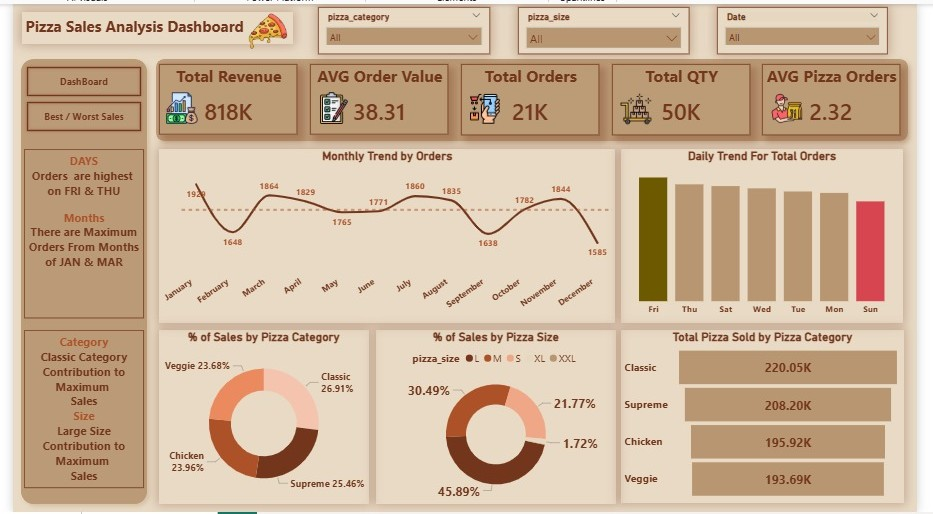

This screenshot's page, from the dashboard's own definition file:
{"tool":"powerbi","page":{"name":"DashBoard","canvas":[1280,720],"ordinal":0},"visuals":[{"type":"shape","box":[0,66.6,201.3,653.4],"z":0},{"type":"textbox","box":[15.6,462,170.1,223.9],"z":1000},{"type":"textbox","box":[15.6,205.5,170.1,239.5],"z":2000},{"type":"shape","box":[191.3,66.6,1088.5,138.9],"z":3000},{"type":"cardVisual","title":"AVG Order Value","fields":{"Data":["pizza_sales V2.AVG Per Orders"]},"box":[421.3,85.2,196.2,100],"z":4000},{"type":"cardVisual","title":"Total Revenue","fields":{"Data":["pizza_sales V2.Total Revenue"]},"box":[207.5,85.2,196.2,100],"z":5000},{"type":"cardVisual","title":"Total Orders","fields":{"Data":["pizza_sales V2.Total Orders"]},"box":[635.2,84.9,195.6,100.6],"z":6000},{"type":"cardVisual","title":"Total QTY","fields":{"Data":["pizza_sales V2.Total QTY"]},"box":[848.4,84.9,195.6,100.6],"z":7000},{"type":"cardVisual","title":"AVG Pizza Orders","fields":{"Data":["pizza_sales V2.AVG Pizza Orders"]},"box":[1061.6,84.9,195.6,100.6],"z":8000},{"type":"image","box":[1074.3,119.7,45.4,58.1],"z":9000},{"type":"image","box":[645.9,119.7,45,58],"z":10000},{"type":"image","box":[860.1,119.7,45,58],"z":11000},{"type":"image","box":[217.5,119.7,45,57.5],"z":12000},{"type":"image","box":[431.7,119.7,45,57.5],"z":13000},{"type":"lineChart","title":"Monthly Trend by Orders","fields":{"Y":["pizza_sales V2.Total Orders"],"Category":["pizza_sales V2.New Order Date.Variation.Date Hierarchy.Year","pizza_sales V2.New Order Date.Variation.Date Hierarchy.Quarter","pizza_sales V2.New Order Date.Variation.Date Hierarchy.Month","pizza_sales V2.New Order Date.Variation.Date Hierarchy.Day"]},"box":[207.1,205.7,647.1,245.7],"z":14000},{"type":"columnChart","title":"Daily Trend For Total Orders ","fields":{"Y":["pizza_sales V2.Total Orders"],"Category":["pizza_sales V2.Day Name"]},"box":[861.4,205.7,400,245.7],"z":15000},{"type":"donutChart","title":"% of Sales by Pizza Category","fields":{"Category":["pizza_sales V2.pizza_category"],"Y":["pizza_sales V2.Total Revenue"]},"box":[207.1,461.4,297.1,245.7],"z":16000},{"type":"donutChart","title":"% of Sales by Pizza Size","fields":{"Y":["pizza_sales V2.Total Revenue"],"Category":["pizza_sales V2.pizza_size"]},"box":[514.3,461.4,340,245.7],"z":17000},{"type":"funnel","title":"Total Pizza Sold by Pizza Category","fields":{"Category":["pizza_sales V2.pizza_category"],"Y":["pizza_sales V2.Total Revenue"]},"box":[861.7,462,401.1,245.2],"z":18000},{"type":"textbox","box":[12.8,11.3,384.1,45.4],"z":19000},{"type":"image","box":[286.3,9.9,150.2,56.7],"z":20000},{"type":"slicer","fields":{"Values":["pizza_sales V2.pizza_category"]},"box":[432.3,4.3,243.8,66.6],"z":21000},{"type":"slicer","fields":{"Values":["pizza_sales V2.pizza_size"]},"box":[715.4,4.3,243,66.6],"z":22000},{"type":"slicer","fields":{"Values":["pizza_sales V2.New Order Date.Variation.Date Hierarchy.Month"]},"box":[997.8,4.3,242.4,66.6],"z":23000},{"type":"actionButton","box":[15.6,134.6,170.1,49.6],"z":23001},{"type":"actionButton","box":[15.6,85,170.1,49.6],"z":23002}]}

Visuals, with their boxes in screenshot pixels (x1, y1, x2, y2), scaled from the page's 1280x720 canvas onto the 933x514 screenshot:
shape: 0:48:147:513
textbox: 11:330:135:490
textbox: 11:147:135:318
shape: 139:48:932:147
"AVG Order Value" cardVisual: 307:61:450:132
"Total Revenue" cardVisual: 151:61:294:132
"Total Orders" cardVisual: 463:61:606:132
"Total QTY" cardVisual: 618:61:761:132
"AVG Pizza Orders" cardVisual: 774:61:916:132
image: 783:85:816:127
image: 471:85:504:127
image: 627:85:660:127
image: 159:85:191:127
image: 315:85:347:127
"Monthly Trend by Orders" lineChart: 151:147:623:322
"Daily Trend For Total Orders " columnChart: 628:147:919:322
"% of Sales by Pizza Category" donutChart: 151:329:368:505
"% of Sales by Pizza Size" donutChart: 375:329:623:505
"Total Pizza Sold by Pizza Category" funnel: 628:330:920:505
textbox: 9:8:289:40
image: 209:7:318:48
slicer - pizza_sales V2.pizza_category: 315:3:493:51
slicer - pizza_sales V2.pizza_size: 521:3:699:51
slicer - pizza_sales V2.New Order Date.Variation.Date Hierarchy.Month: 727:3:904:51
actionButton: 11:96:135:131
actionButton: 11:61:135:96
